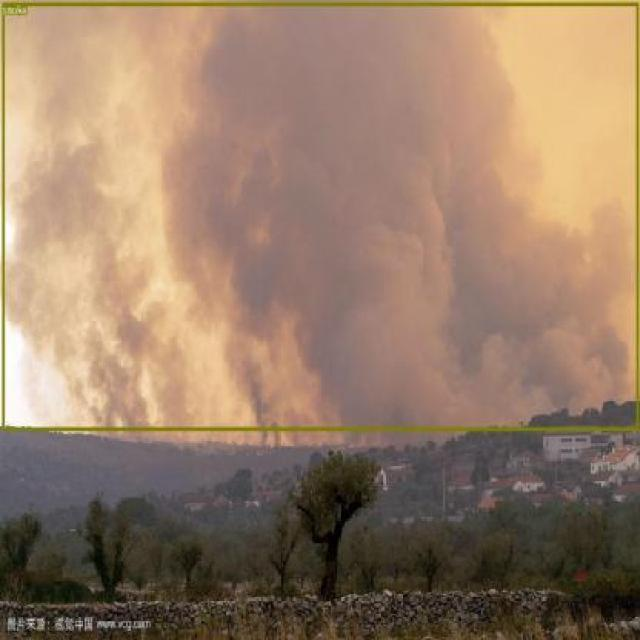Smoke: (1, 2, 638, 430)
